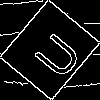U: (25, 24, 84, 82)
